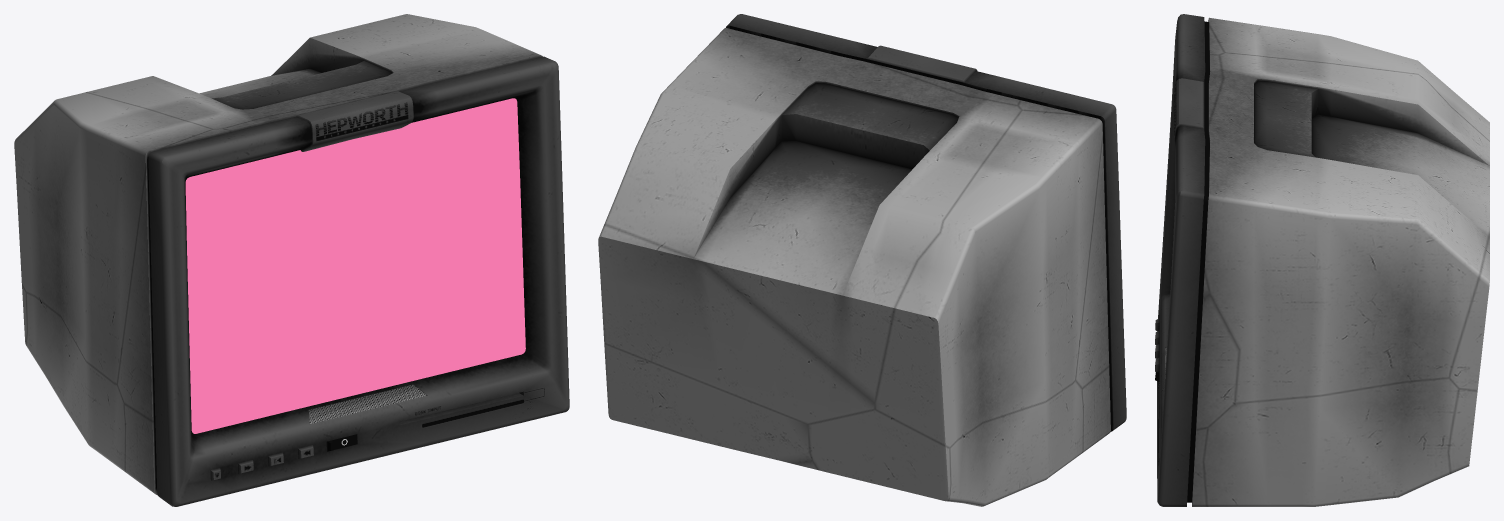
File: homeMonitor.glb
3 views of the same model, side by side, from view 1: azimuth 30°, elevation 25°; view 2: azimuth 150°, elevation 25°; view 3: azimuth 270°, elevation 25° (orthographic). The views are drawn at different scales.
Visible parts, largest first — view 1: Monitor base - unwrapped.001, Screen 01; view 2: Monitor base - unwrapped.001; view 3: Monitor base - unwrapped.001.
Boxes of the visible parts, bbox=[...] form: Monitor base - unwrapped.001: bbox=[14, 14, 569, 506]; Screen 01: bbox=[185, 98, 525, 433]; Monitor base - unwrapped.001: bbox=[598, 14, 1126, 506]; Monitor base - unwrapped.001: bbox=[1155, 14, 1489, 506].
Bounding box in the file's own units: 9.2 × 7.57 × 7.24.
Materials: 3 (2 with a texture image).
